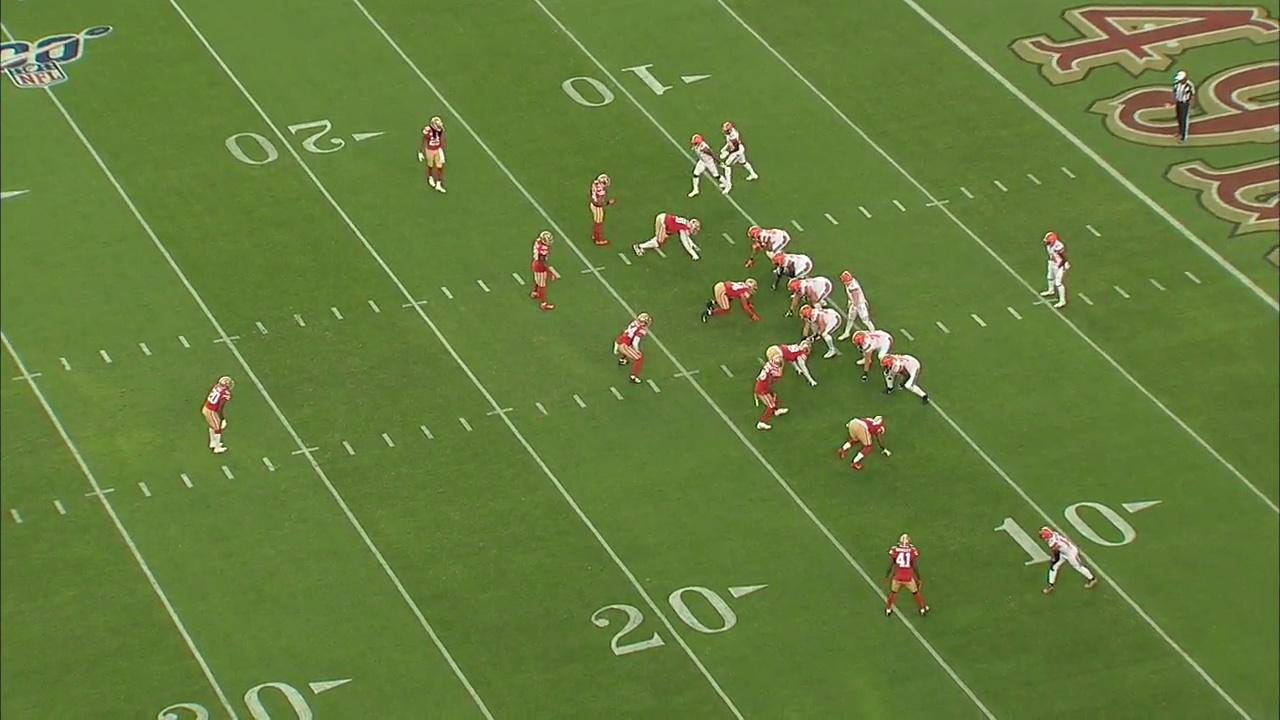player: (1035, 521, 1099, 598), (882, 533, 931, 622), (632, 211, 704, 263), (716, 118, 761, 196), (835, 413, 892, 473), (610, 310, 654, 386), (523, 228, 562, 313), (200, 373, 238, 459), (687, 133, 733, 204), (699, 276, 763, 327), (836, 267, 878, 344), (879, 352, 934, 409), (751, 355, 789, 433), (1037, 227, 1072, 310), (849, 323, 897, 383), (765, 337, 816, 392), (416, 113, 449, 196), (797, 303, 844, 361), (586, 169, 619, 249), (780, 271, 834, 319), (741, 221, 791, 271), (768, 248, 814, 294)
ref: (1169, 68, 1196, 144)
